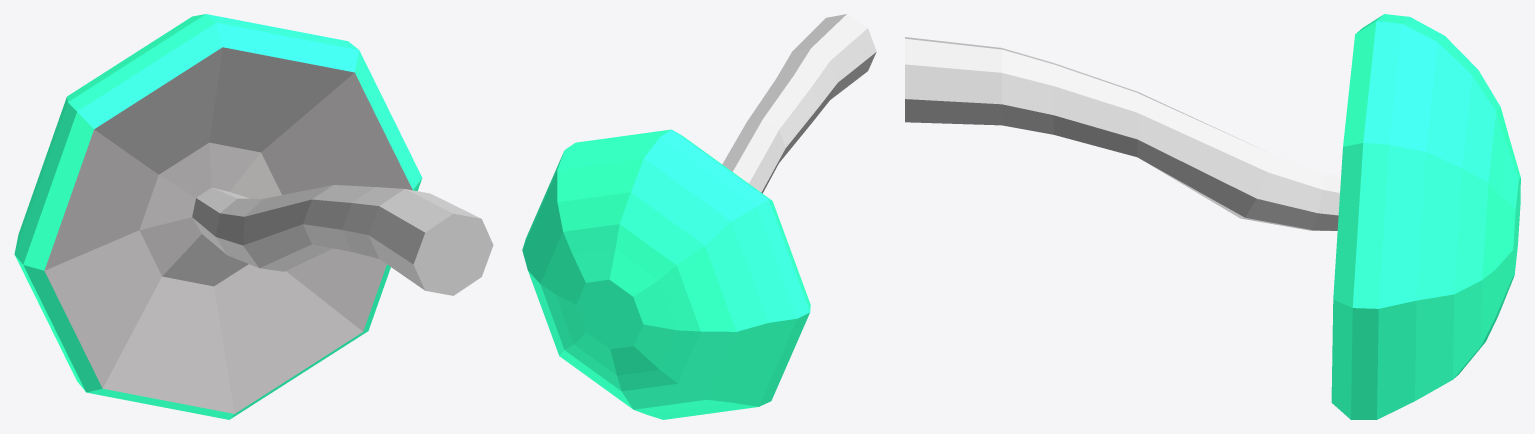
File: Mushroom_2_Tall.fbx
3 renders of one model, left to right at view 1: azimuth 30°, elevation 25°; view 2: azimuth 150°, elevation 25°; view 3: azimuth 270°, elevation 25°, orthographic. The views are drawn at different scales.
Parts seen in each view (by area): view 1: Mushroom_2_Tall; view 2: Mushroom_2_Tall; view 3: Mushroom_2_Tall.
Part boxes in pixels (box(x1,y1,x2,y2)): Mushroom_2_Tall: box(14, 14, 493, 419); Mushroom_2_Tall: box(522, 14, 876, 419); Mushroom_2_Tall: box(905, 14, 1520, 419).
Bounding box in the file's own units: 88.37 × 85.8 × 123.
